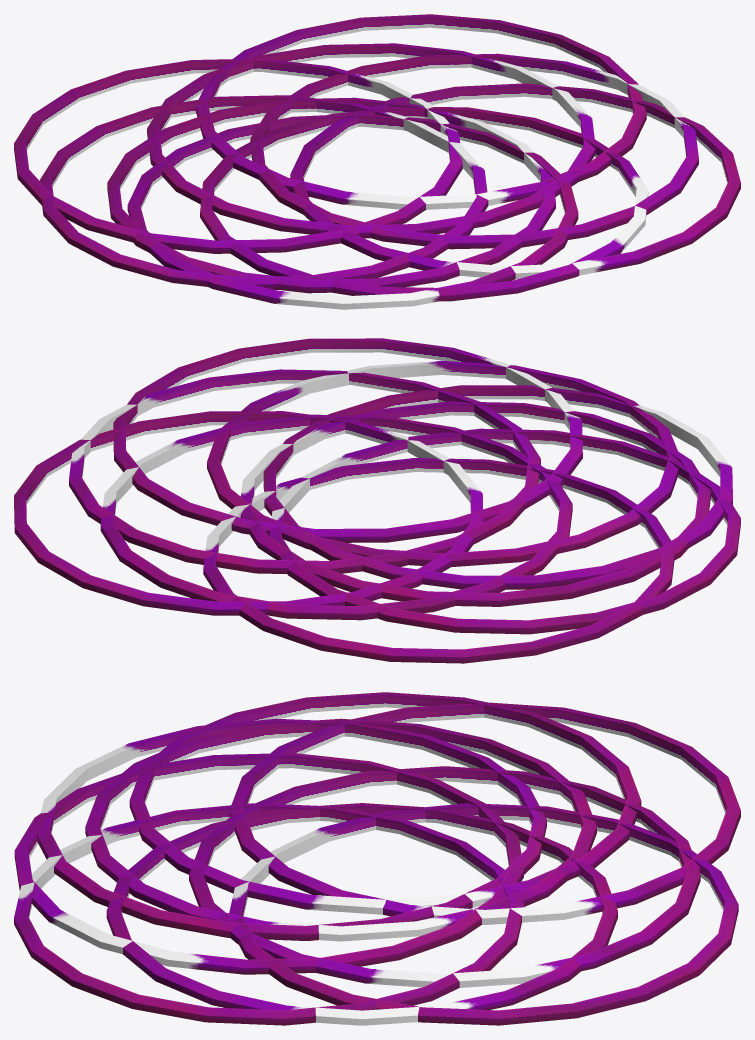
Rendered from Onion.obj.
The picture shows the model from 3 angles, top to bottom: view 1: azimuth 30°, elevation 25°; view 2: azimuth 150°, elevation 25°; view 3: azimuth 270°, elevation 25°; orthographic projection. The views are drawn at different scales.
Parts seen in each view (by area): view 1: group10_pasted__group8_pasted__pasted__group7_pasted__pasted__pa; view 2: group10_pasted__group8_pasted__pasted__group7_pasted__pasted__pa; view 3: group10_pasted__group8_pasted__pasted__group7_pasted__pasted__pa.
Boxes of the visible parts, x1=… form: group10_pasted__group8_pasted__pasted__group7_pasted__pasted__pa: x1=14, y1=14, x2=740, y2=309; group10_pasted__group8_pasted__pasted__group7_pasted__pasted__pa: x1=14, y1=338, x2=740, y2=663; group10_pasted__group8_pasted__pasted__group7_pasted__pasted__pa: x1=14, y1=692, x2=740, y2=1025.
Size of the model in its own units: 2.04 by 0.0365 by 1.92.
9 materials, 9 textured.
